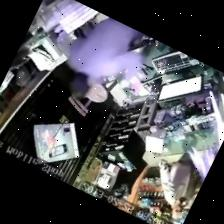person: (68, 18, 143, 97), (159, 153, 202, 220)
